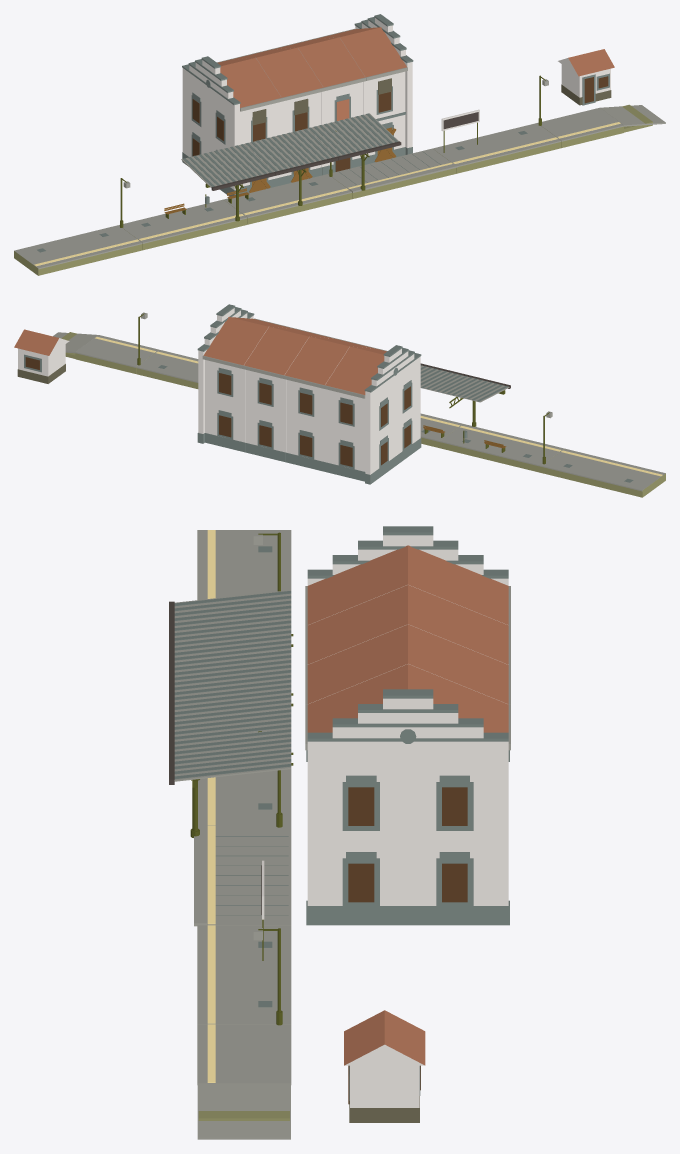
File: SM_EstacionNules_v0_LOD0.fbx
3 views of the same model, one above another, from view 1: azimuth 30°, elevation 25°; view 2: azimuth 150°, elevation 25°; view 3: azimuth 270°, elevation 25° (orthographic). The views are drawn at different scales.
Parts seen in each view (by area): view 1: SM_bloques.estacion_nules_v0_LOD0; view 2: SM_bloques.estacion_nules_v0_LOD0; view 3: SM_bloques.estacion_nules_v0_LOD0.
Part boxes in pixels (bbox=[...]): SM_bloques.estacion_nules_v0_LOD0: bbox=[14, 14, 665, 275]; SM_bloques.estacion_nules_v0_LOD0: bbox=[14, 304, 665, 497]; SM_bloques.estacion_nules_v0_LOD0: bbox=[169, 526, 510, 1139].
Size of the model in its own units: 59.99 by 10.96 by 14.62.
